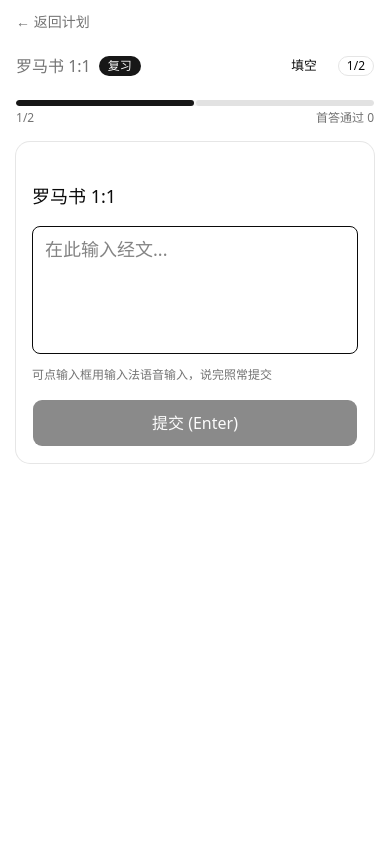
LearnClient 跨节状态隔离（复现：上一节的输入/比对残留到下一节） › 通过后点「下一组」才入库：未通过不写分，补考通过封顶「正确」
// 先失败一次 → 提交时不写库
Type "第一节经" into the text box with placeholder "在此输入经文...". click: [195, 290]
box: [32, 226, 358, 354]
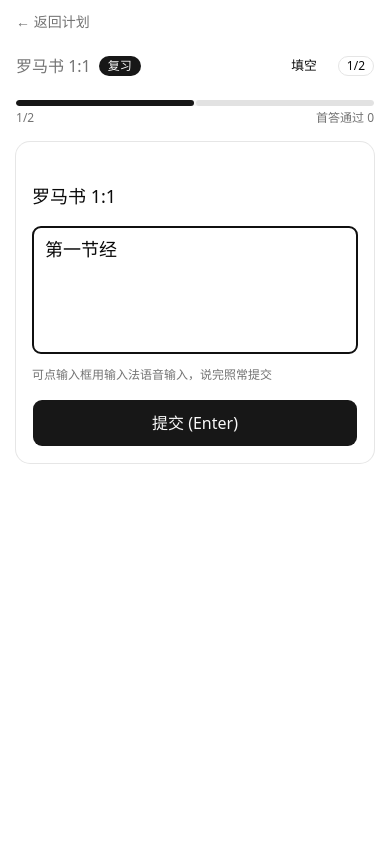
Press Enter
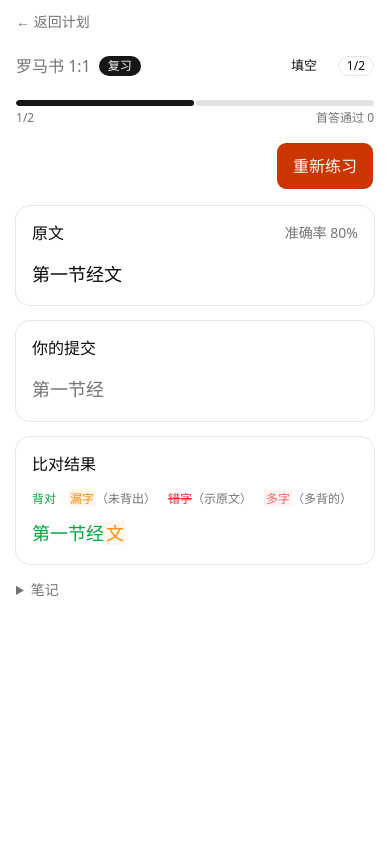
Expected: the button with aria-label "未通过，重新练习" is shown
// 重新练习并背对 → 仍不写库，要点「下一节」才入库
Click the button "重新练习". click: [325, 166]
box: [276, 142, 374, 190]
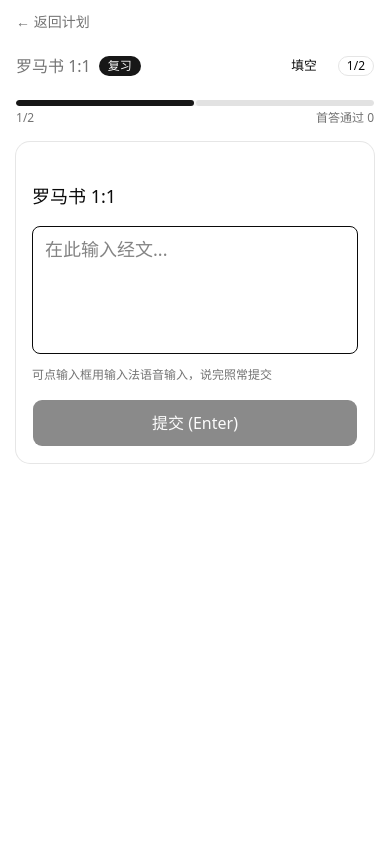
Type "第一节经文" into the text box with placeholder "在此输入经文...". click: [195, 290]
box: [32, 226, 358, 354]
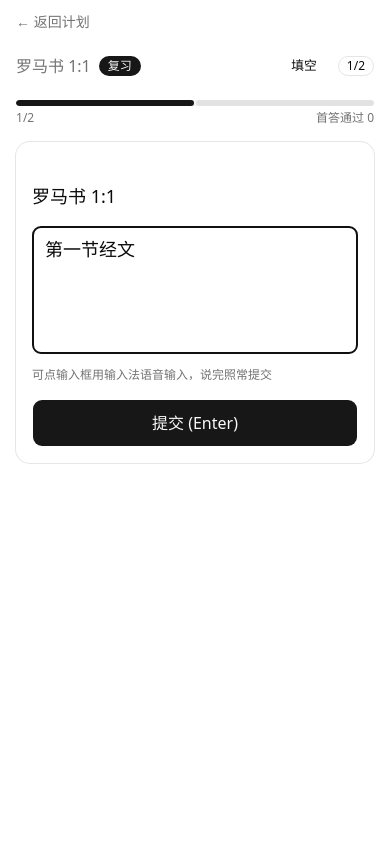
Press Enter
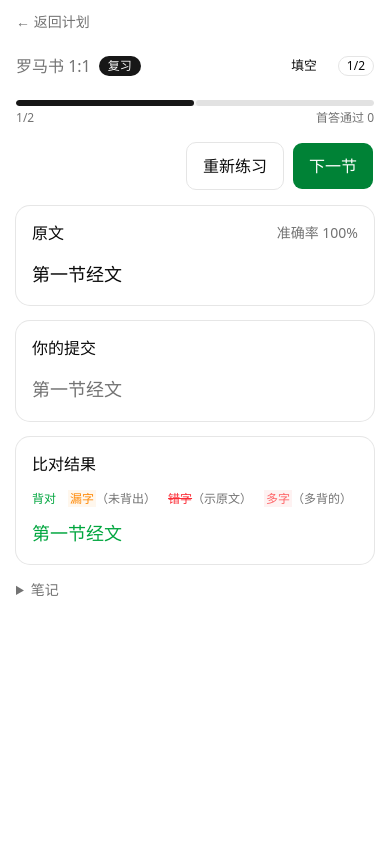
Expected: the button with aria-label "通过，下一节" is shown
Click the button "下一节". click: [333, 166]
box: [292, 142, 374, 190]
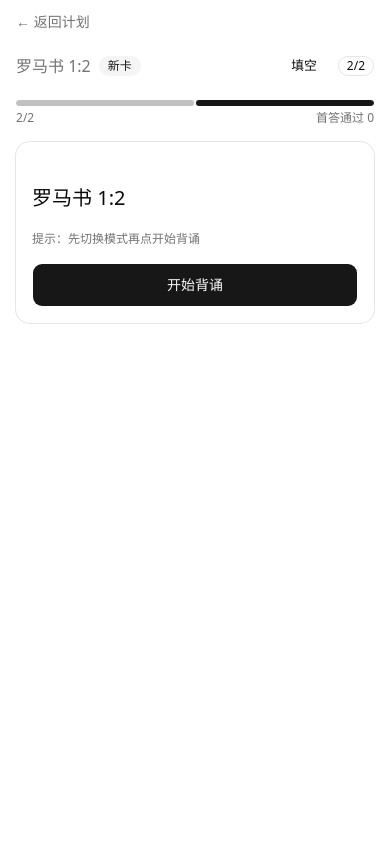
Expected: the text "首答通过 0" is shown, [316, 110, 374, 126]
Expected: the heading "罗马书 1:2" is shown, [16, 54, 91, 78]
